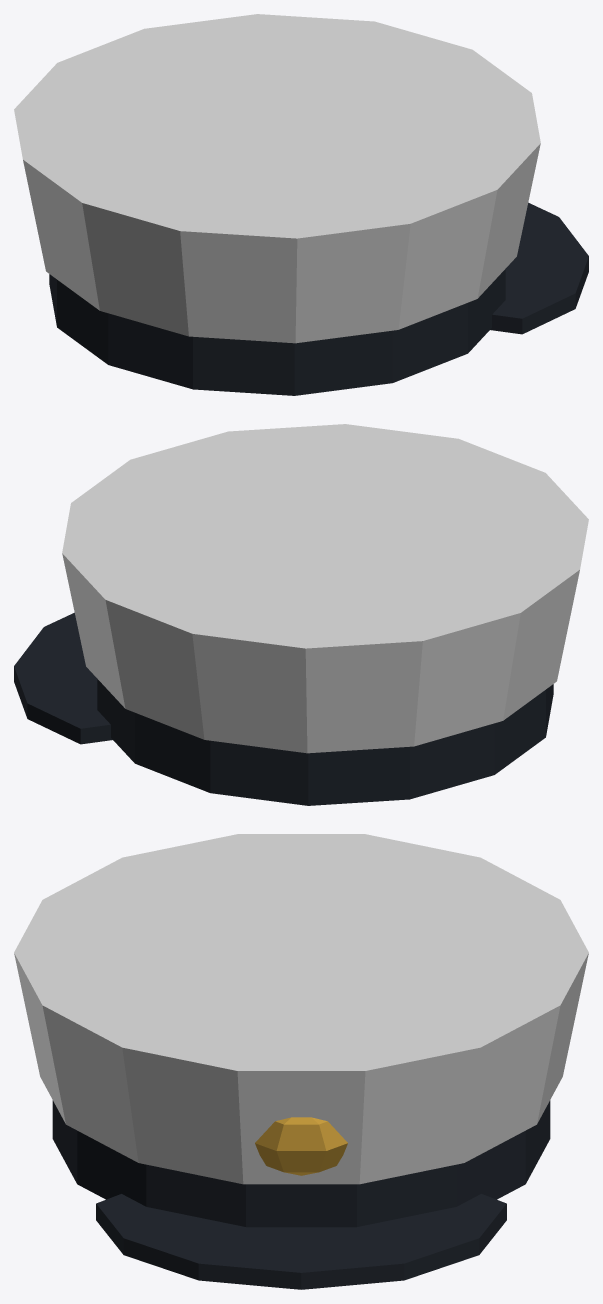
Rendered from hat-captain.glb.
The picture shows the model from 3 angles, top to bottom: view 1: azimuth 30°, elevation 25°; view 2: azimuth 150°, elevation 25°; view 3: azimuth 270°, elevation 25°; orthographic projection. The views are drawn at different scales.
Visible parts, largest first — view 1: hat-captain; view 2: hat-captain; view 3: hat-captain.
Boxes of the visible parts, x1,y1,x2,y2 form: hat-captain: (14,14,588,395); hat-captain: (14,424,588,805); hat-captain: (14,834,588,1289).
Size of the model in its own units: 1.01 by 0.335 by 0.924.
